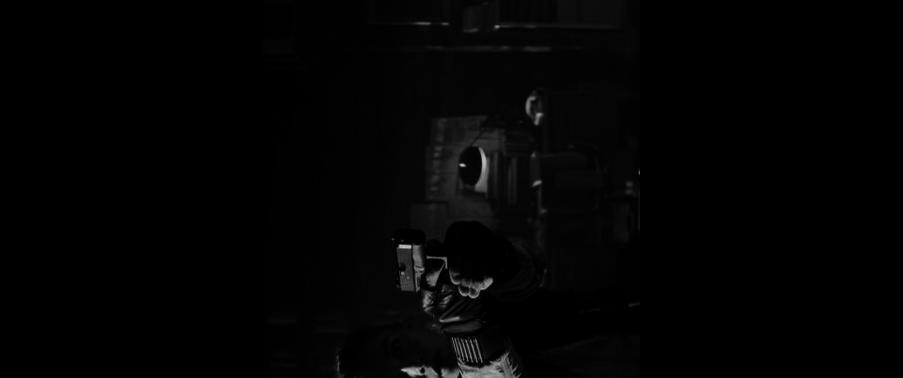gun: (396, 221, 532, 340)
